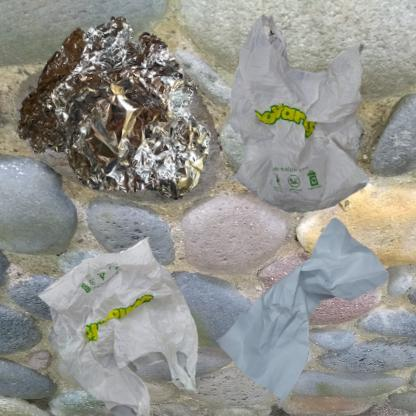aluminio: (10, 10, 216, 211)
bolsa: (10, 213, 240, 416), (213, 10, 401, 233)
papel: (213, 213, 391, 412)
